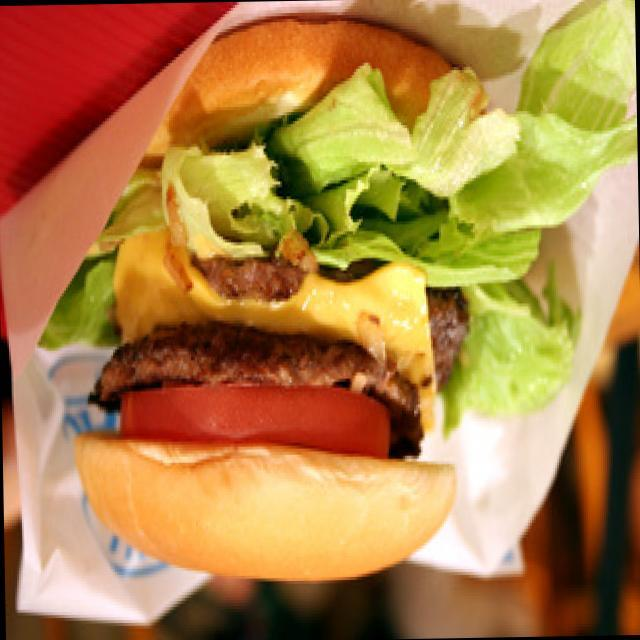Hamburger: (48, 5, 596, 627)
